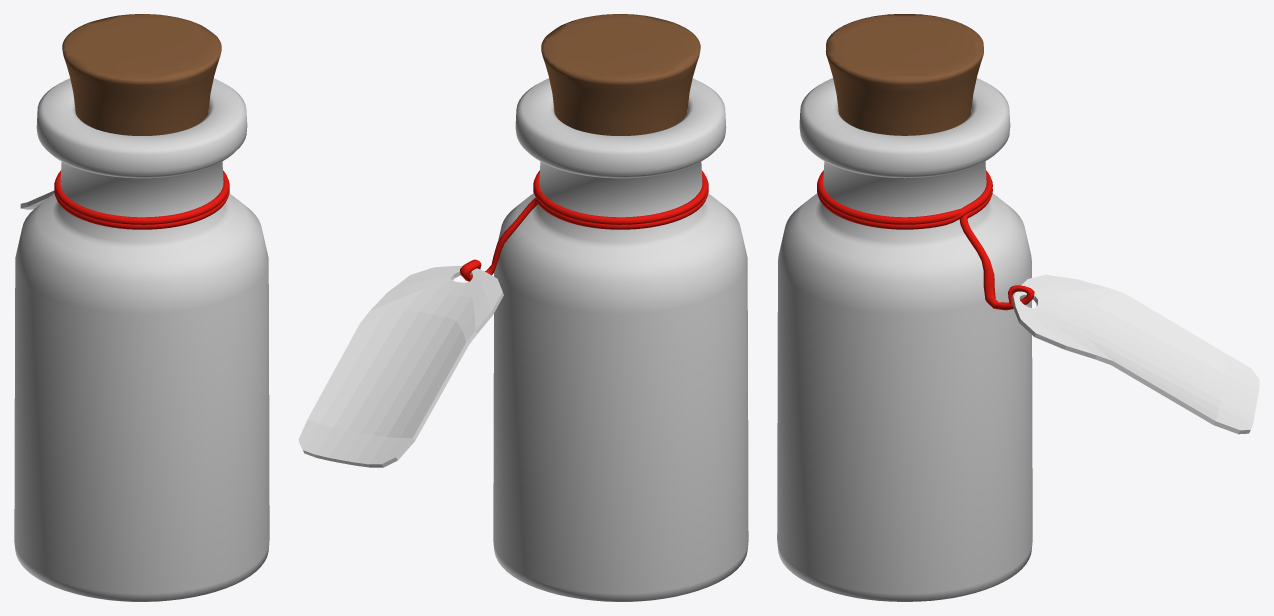
The model's file is Alice_DrinkMe_NoAnim_v1.fbx.
3 renders of one model, left to right at view 1: azimuth 30°, elevation 25°; view 2: azimuth 150°, elevation 25°; view 3: azimuth 270°, elevation 25°, orthographic.
Visible parts, largest first — view 1: Cylinder.003, Cylinder.004, Cylinder.005; view 2: Cylinder.003, Plane.001, Cylinder.004, Cylinder.005; view 3: Cylinder.003, Plane.001, Cylinder.004, Cylinder.005.
Boxes of the visible parts, x1=… form: Cylinder.003: x1=14, y1=78, x2=269, y2=601; Cylinder.004: x1=62, y1=14, x2=221, y2=135; Cylinder.005: x1=54, y1=170, x2=229, y2=229; Cylinder.003: x1=493, y1=78, x2=748, y2=601; Plane.001: x1=298, y1=266, x2=503, y2=467; Cylinder.004: x1=541, y1=14, x2=700, y2=135; Cylinder.005: x1=460, y1=170, x2=708, y2=281; Cylinder.003: x1=777, y1=78, x2=1032, y2=601; Plane.001: x1=1012, y1=274, x2=1259, y2=434; Cylinder.004: x1=825, y1=14, x2=983, y2=135; Cylinder.005: x1=817, y1=170, x2=1034, y2=310.
Size of the model in its own units: 301 by 346 by 193.
